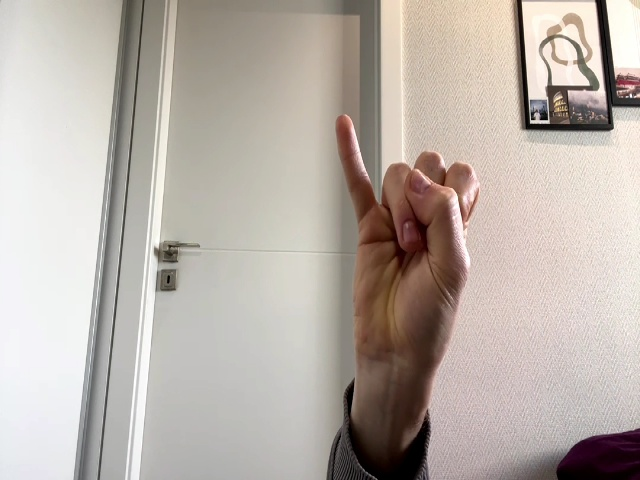I: (335, 114, 481, 349)
